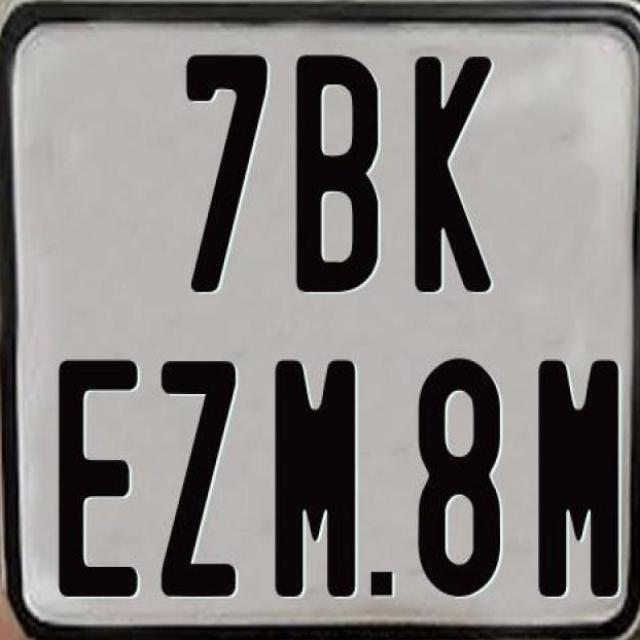license-plate: (4, 2, 629, 640)
